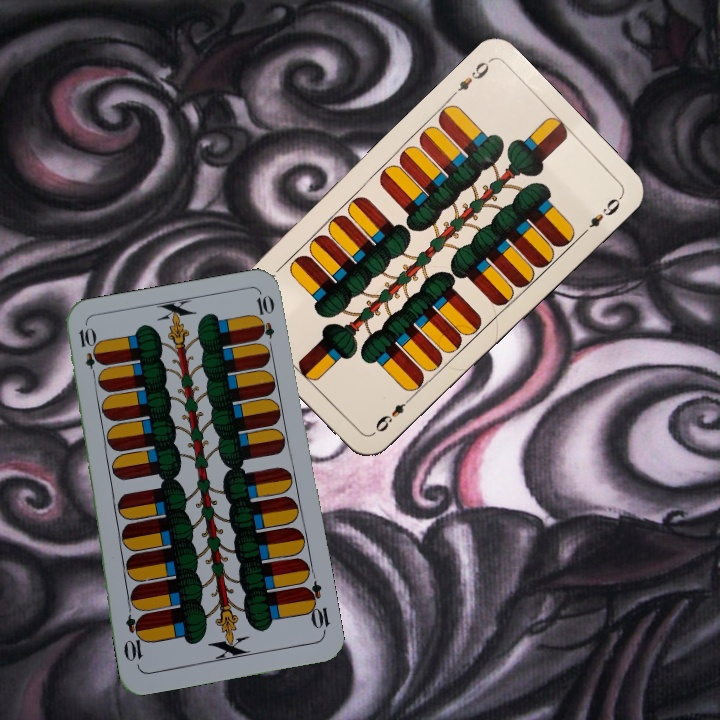E10: (299, 578, 332, 637), (75, 323, 101, 383)
E9: (445, 56, 493, 101), (368, 392, 414, 438)
